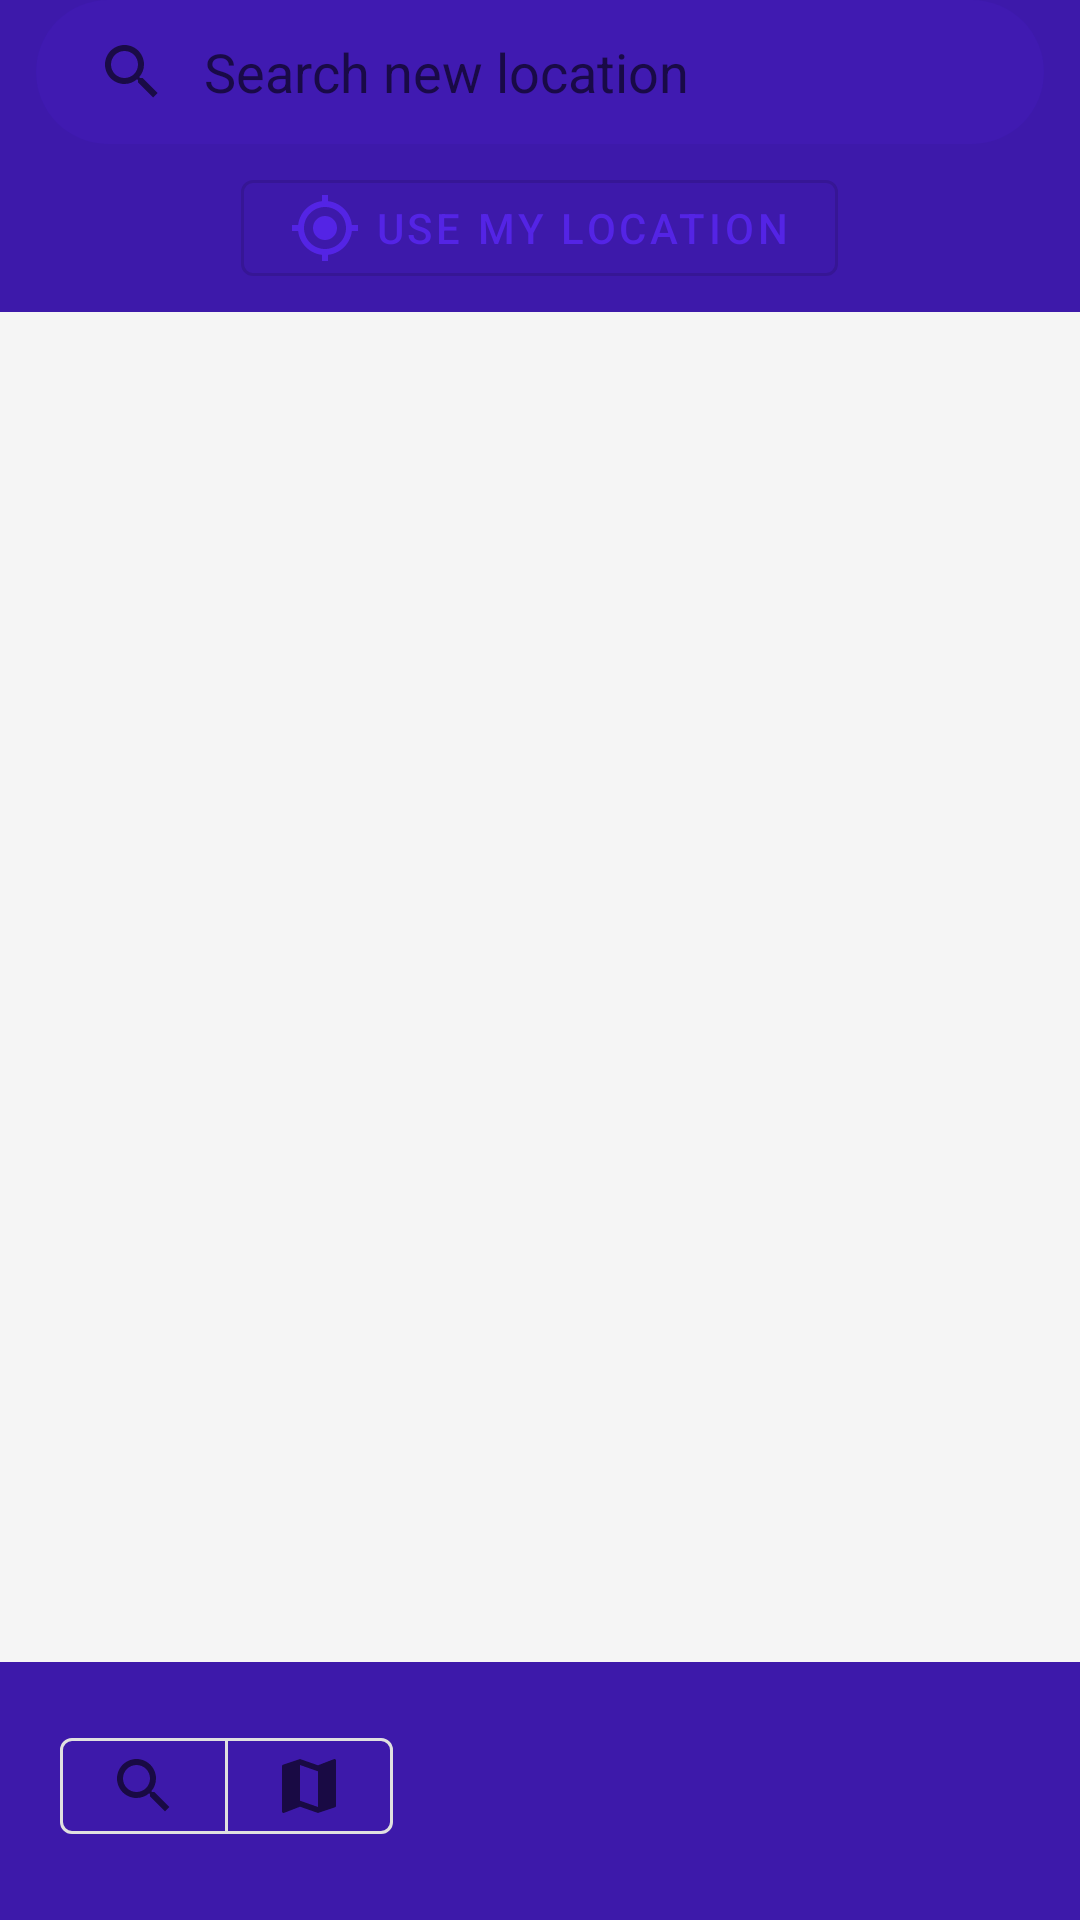

Where icons sit on this 1080px x 1920px app screen, as (x1, y1, x2, y2):
map: (282, 1759, 336, 1813)
